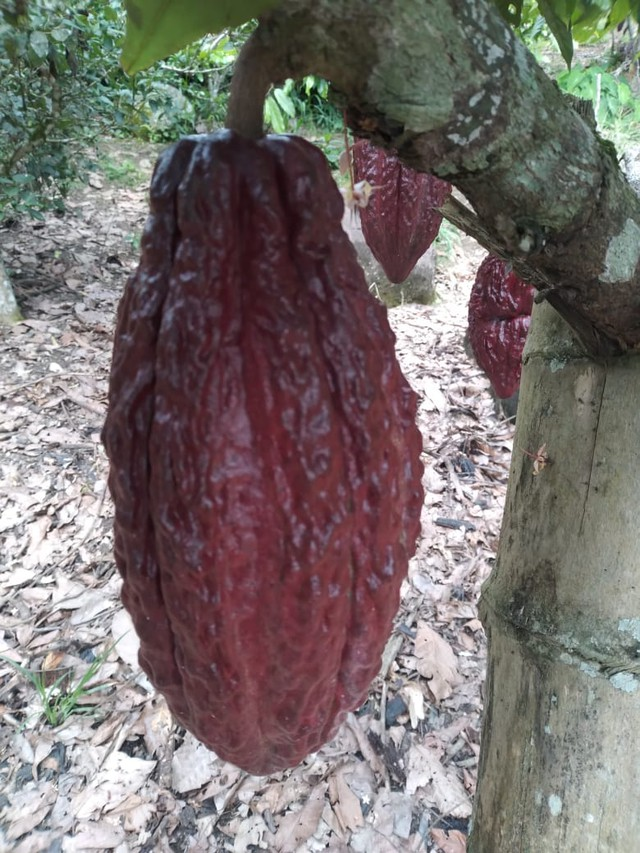Health: (80, 88, 437, 788)
